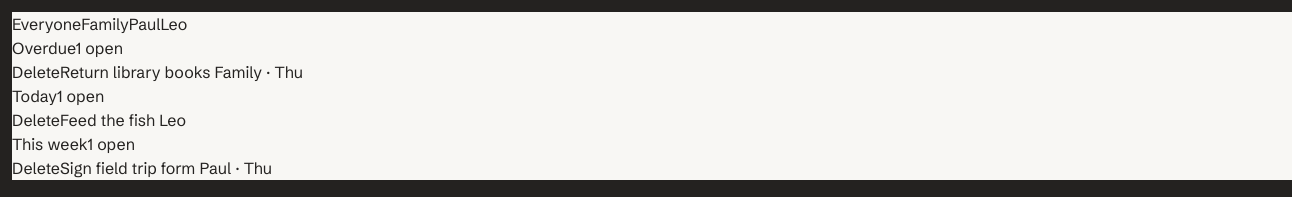
it: WallTodos › groups Overdue / Today / This week and filters by person
The image size is (1292, 197).
Expected: the element "Overdue" shows "Return library books", x1=60 y1=60 x2=303 y2=84
Expected: the element "This week" shows "Sign field trip form", x1=60 y1=156 x2=272 y2=180
Click the button "Leo". click: (174, 24)
box: x1=160 y1=12 x2=187 y2=36
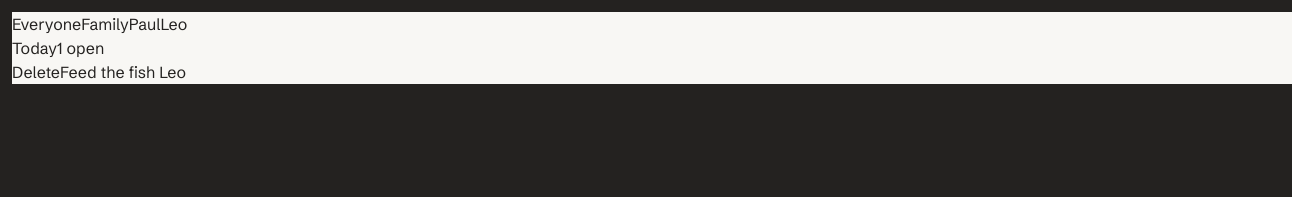
Expected: the element "Today" shows "Feed the fish", x1=60 y1=60 x2=186 y2=84
Now the heading "Overdue" is gone
